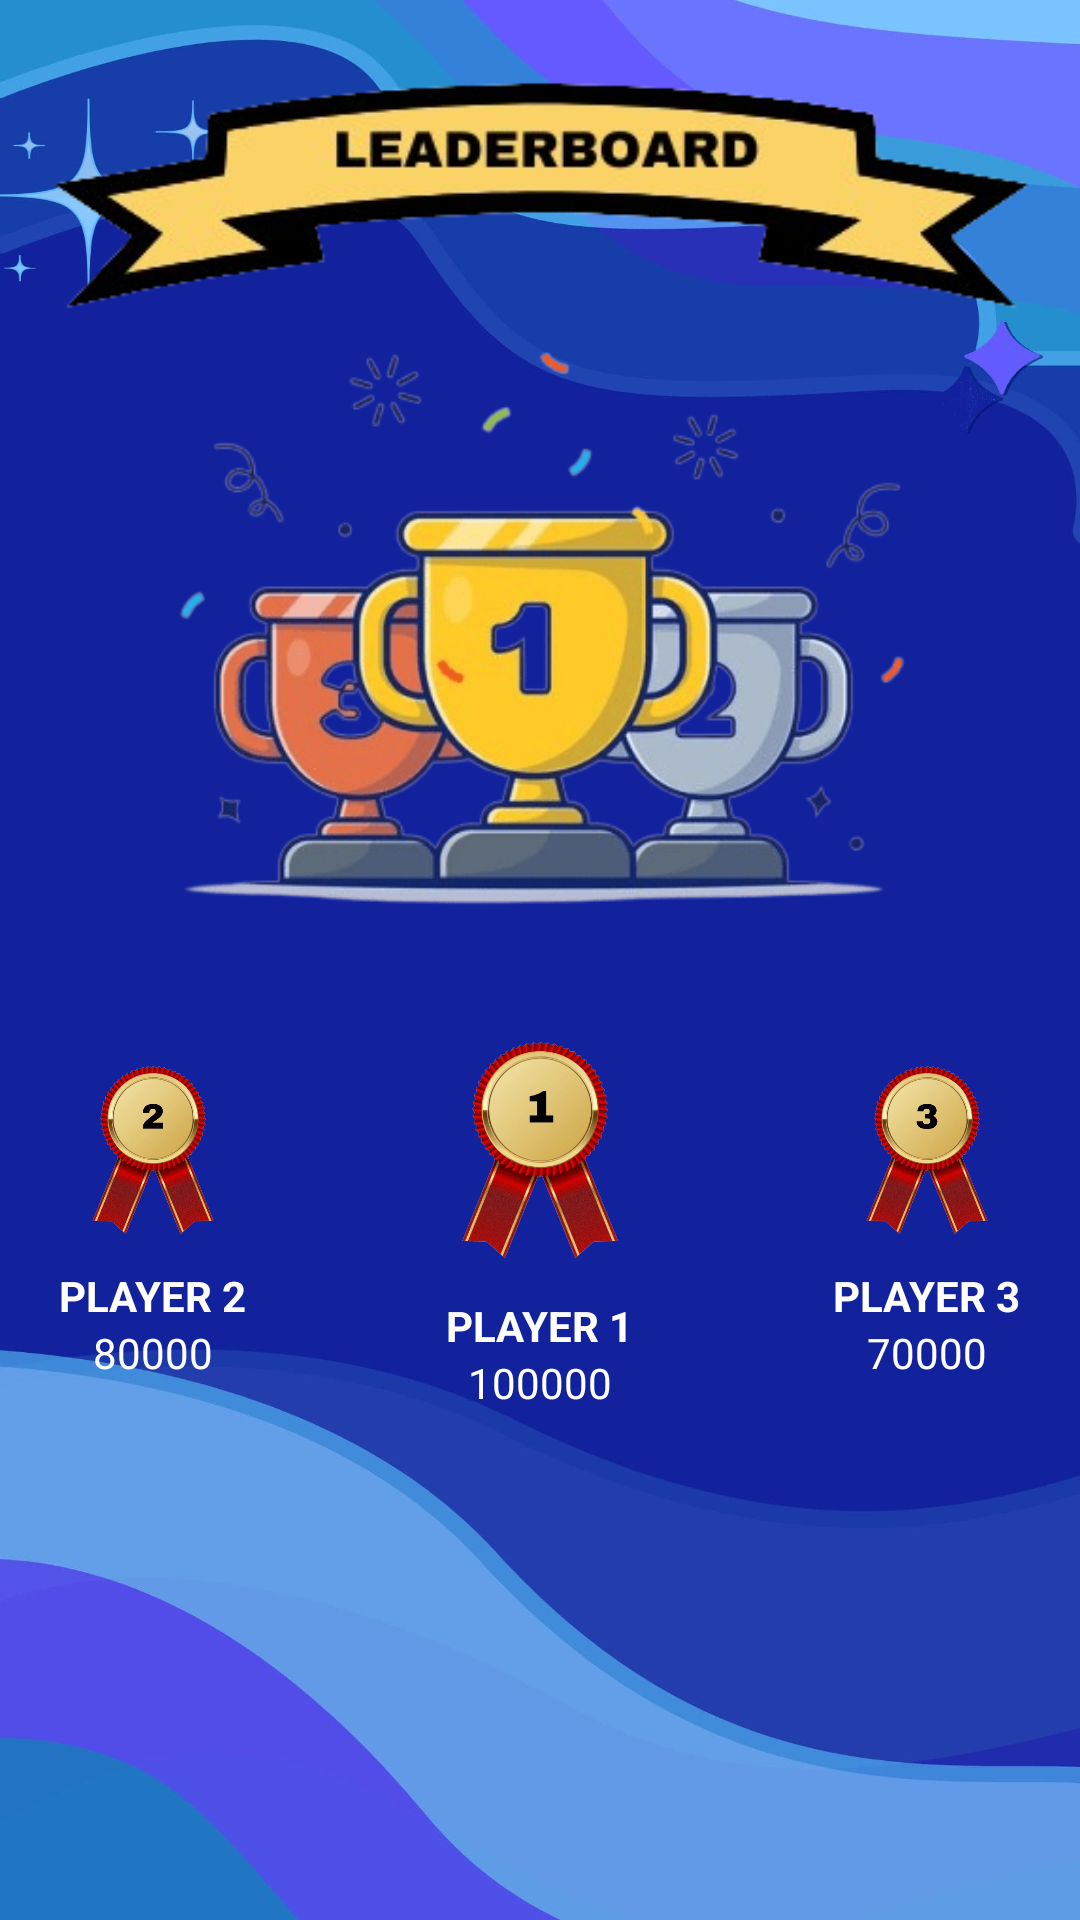

Point at icon controls on the screen. Image size 1080 × 1920, points as (x,y).
first place: (540,1150)
second place: (153,1150)
third place: (927,1150)
